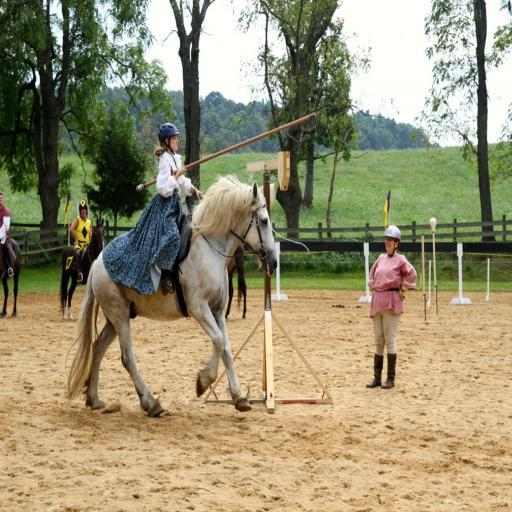Horse: (62, 174, 278, 420), (58, 214, 106, 321), (0, 239, 22, 315)
